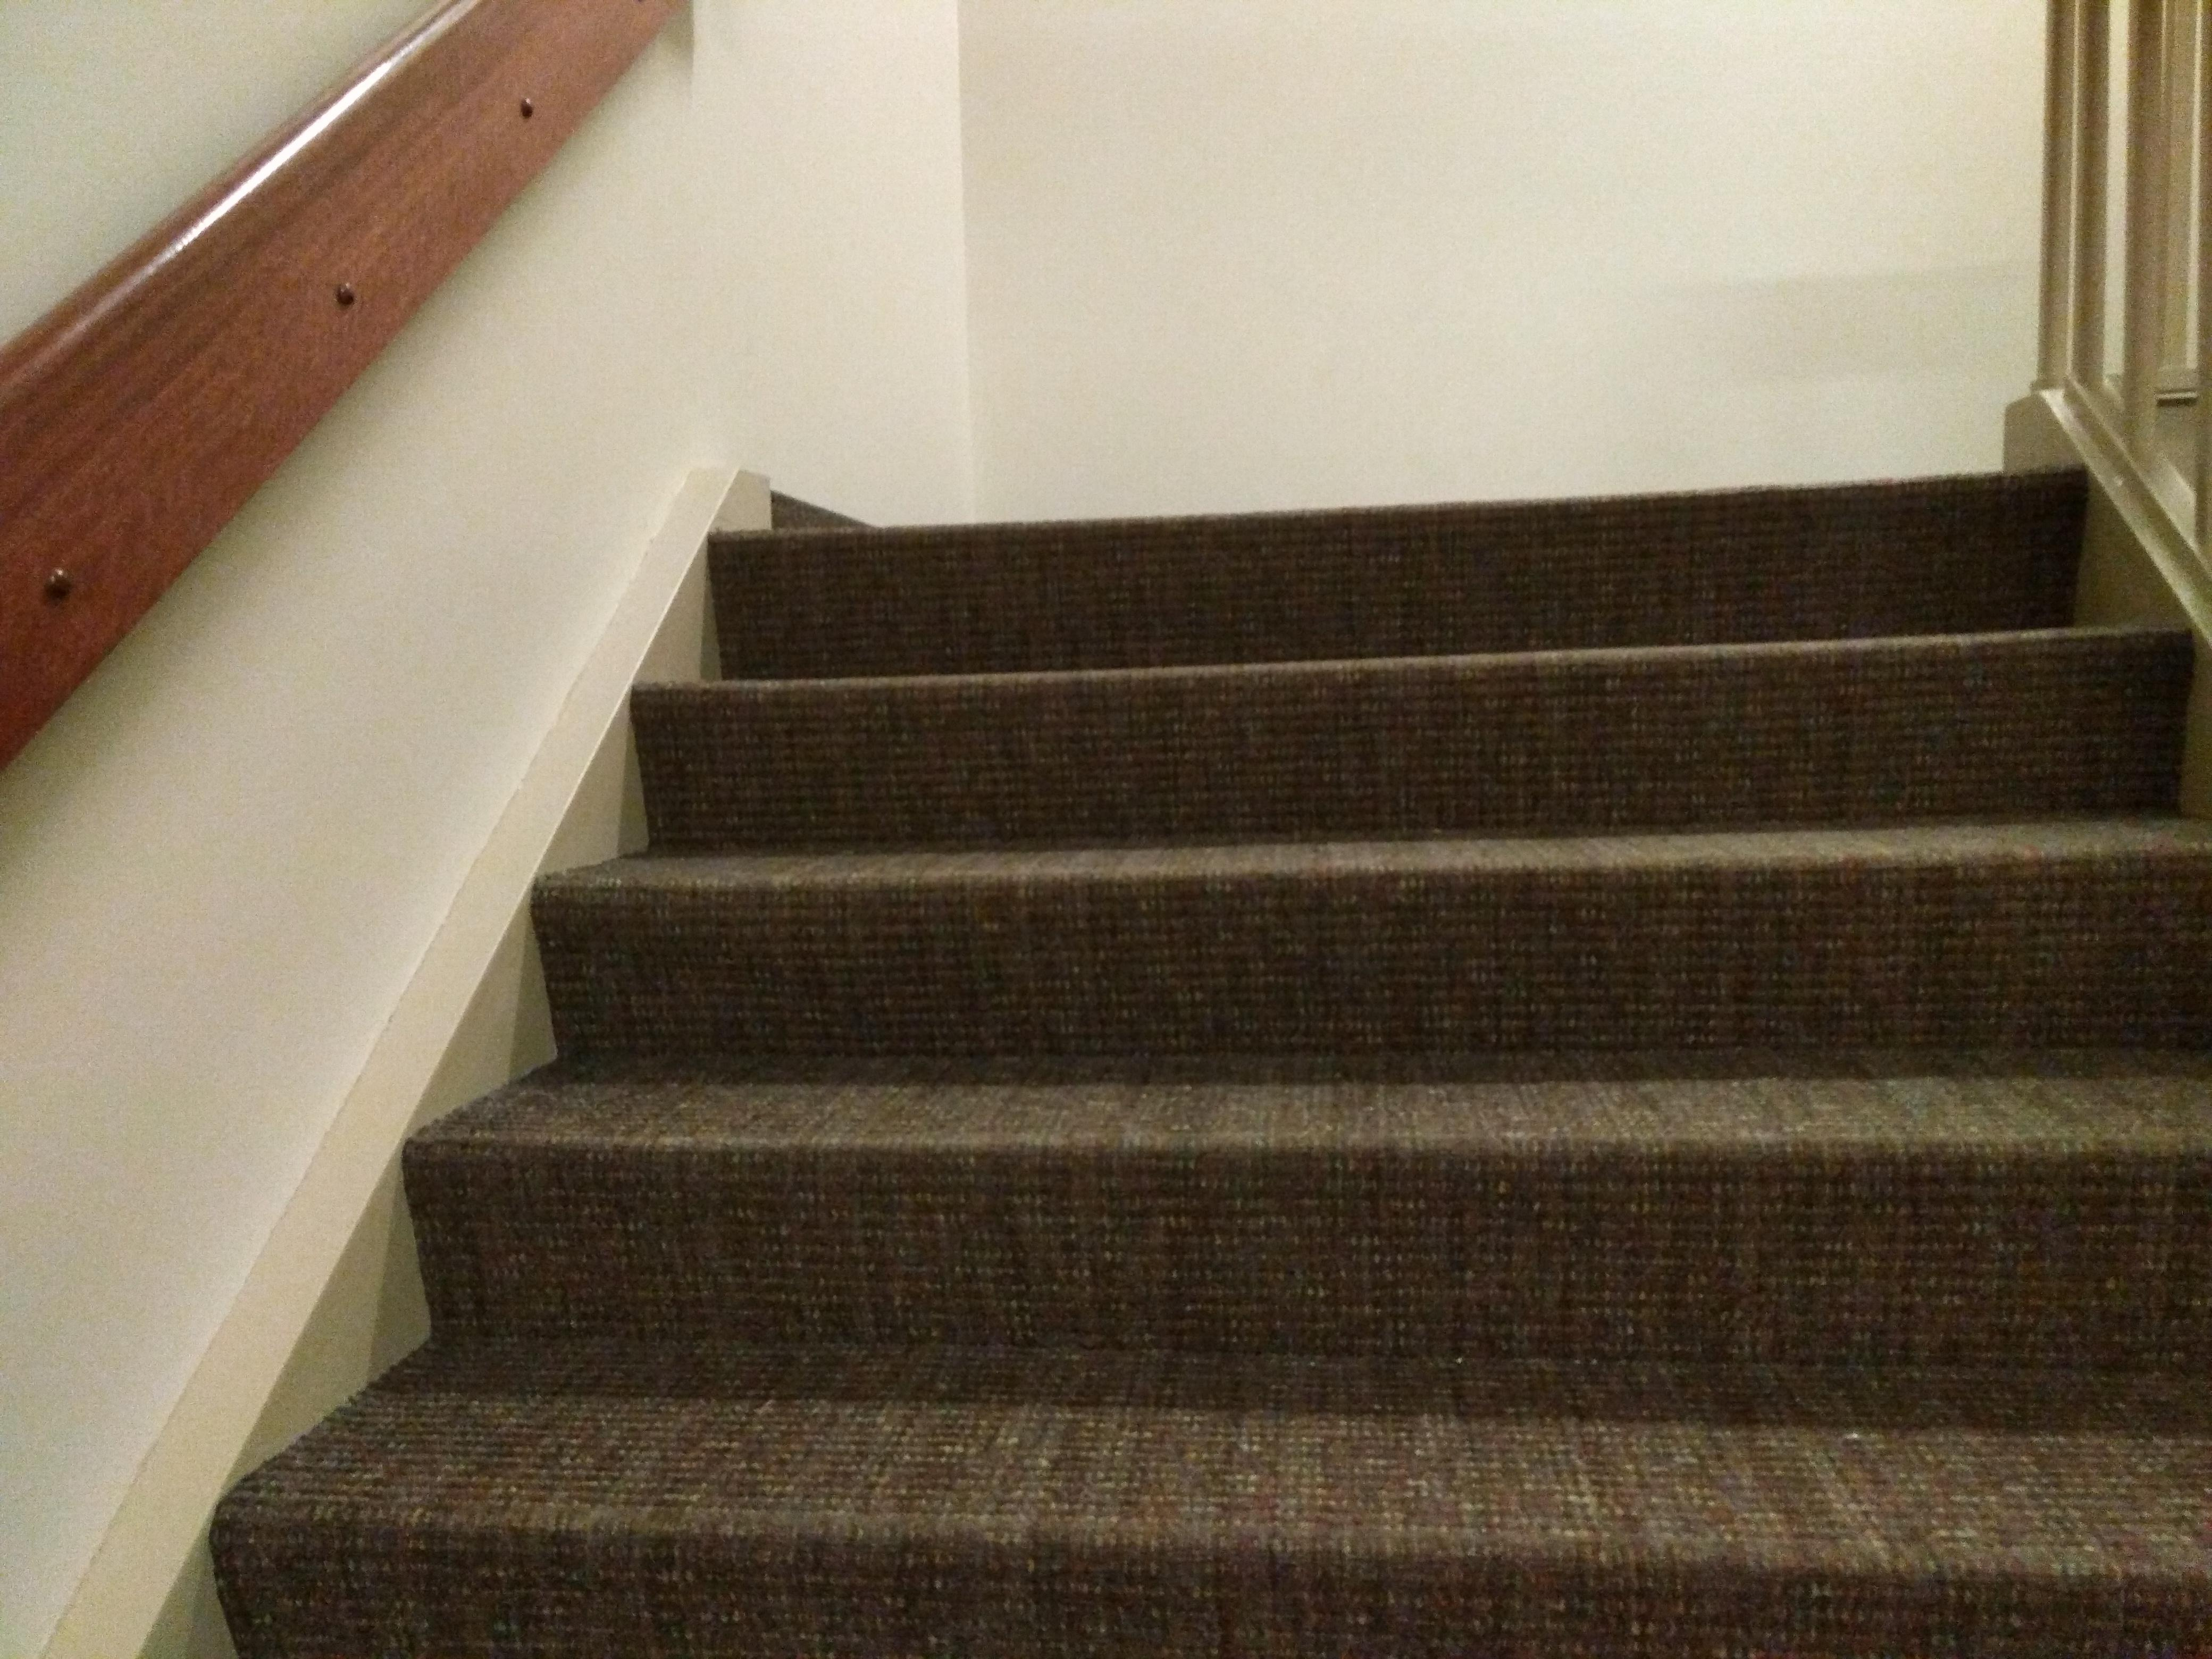stairs_up: (225, 450, 2212, 1659)
